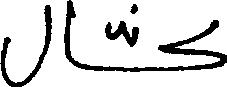ا: (62, 0, 71, 64)
ح: (141, 42, 226, 77)
ل: (0, 2, 49, 85)
ن: (129, 2, 220, 45)
